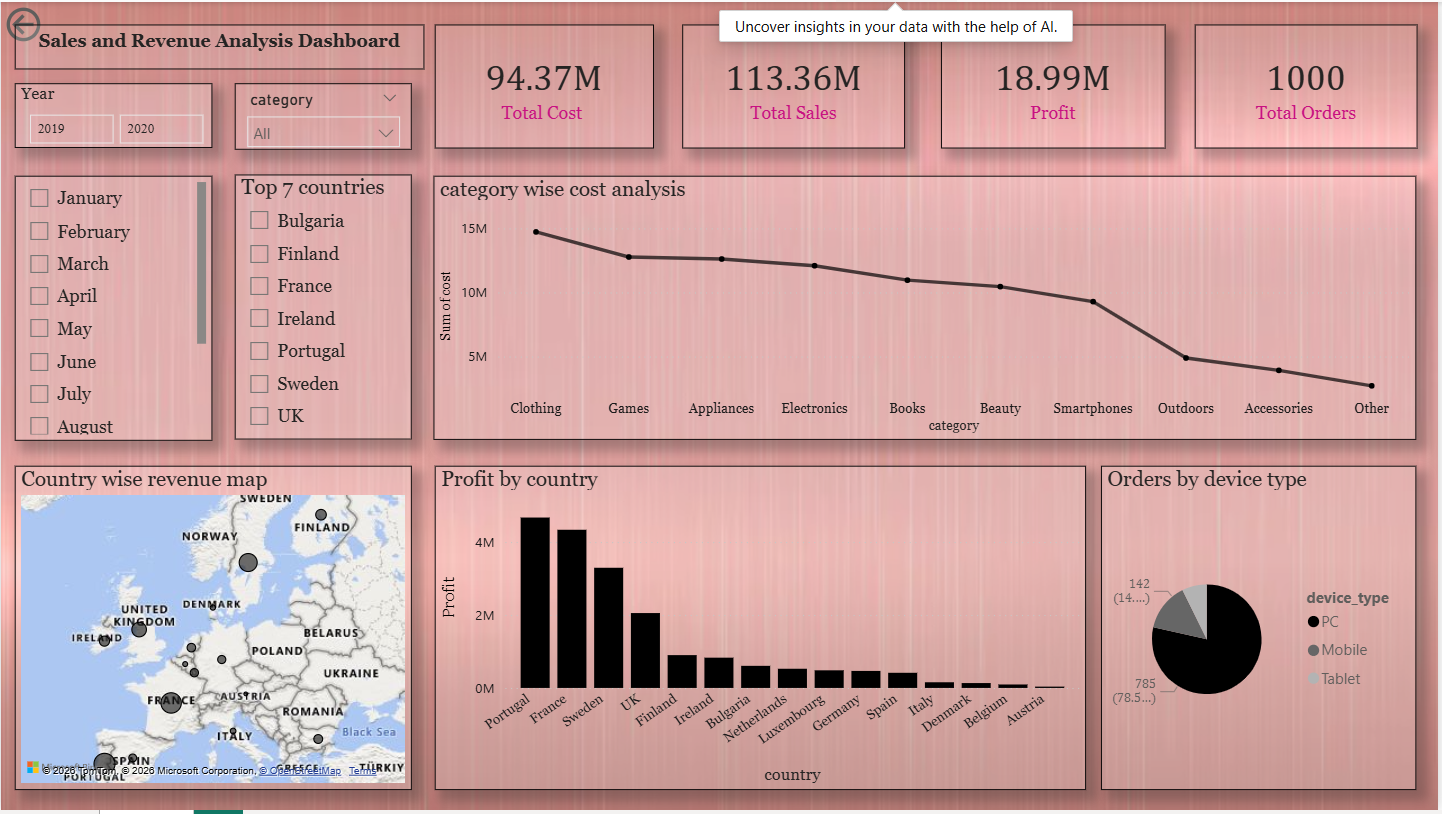

The page's visual inventory and layout, read from the dashboard file:
{"tool":"powerbi","page":{"name":"Page 1","canvas":[1280,720],"ordinal":0},"visuals":[{"type":"card","fields":{"Values":["Sum(Sales-Export_2019-2020. cost )"]},"box":[386.2,20.3,195.3,110.7],"z":0},{"type":"card","fields":{"Values":["Sum(Sales-Export_2019-2020. order_value_EUR )"]},"box":[606.4,20.3,198.7,110.7],"z":1000},{"type":"actionButton","box":[0,0,100,40],"z":2000},{"type":"card","fields":{"Values":["Sales-Export_2019-2020.Profit"]},"box":[836.7,20.3,199.9,110.7],"z":3000},{"type":"card","fields":{"Values":["Sales-Export_2019-2020.Total Orders"]},"box":[1062.5,20.3,198.7,110.7],"z":4000},{"type":"lineChart","title":"category wise cost analysis","fields":{"Category":["Sales-Export_2019-2020.category"],"Y":["Sum(Sales-Export_2019-2020. cost )"]},"box":[385.2,154.5,875,235.2],"z":5000},{"type":"columnChart","fields":{"Y":["Sales-Export_2019-2020.Profit"],"Category":["Sales-Export_2019-2020.country"]},"box":[386.2,413.3,580.4,289.1],"z":6000},{"type":"pieChart","title":" Orders by device type","fields":{"Category":["Sales-Export_2019-2020.device_type"],"Y":["Sales-Export_2019-2020.Total Orders"]},"box":[980.1,413.3,281.2,289.1],"z":7000},{"type":"slicer","fields":{"Values":["Sales-Export_2019-2020.date.Variation.Date Hierarchy.Month"]},"box":[12.5,154.5,176.1,236.4],"z":8000},{"type":"map","title":"Country wise revenue map","fields":{"Category":["Sales-Export_2019-2020.country"],"Size":["Sum(Sales-Export_2019-2020. order_value_EUR )"]},"box":[12.4,413.3,353.4,289.1],"z":9000},{"type":"slicer","title":"Year","fields":{"Values":["Sales-Export_2019-2020.date.Variation.Date Hierarchy.Year"]},"box":[12.5,72.7,176.1,58],"z":10000},{"type":"slicer","title":"Top 7 countries","fields":{"Values":["Sales-Export_2019-2020.country"]},"box":[208,153.4,158,236.4],"z":11000},{"type":"slicer","fields":{"Values":["Sales-Export_2019-2020.category"]},"box":[208,72.7,158,59.1],"z":12000},{"type":"textbox","box":[12.5,20.5,364.8,39.8],"z":13000}]}

Visuals, with their boxes in screenshot pixels (x1, y1, x2, y2), scaled from the page's 1280x720 canvas onto the 1442x814 screenshot:
card - Sum(Sales-Export_2019-2020. cost ): bbox(435, 23, 655, 148)
card - Sum(Sales-Export_2019-2020. order_value_EUR ): bbox(683, 23, 907, 148)
actionButton: bbox(0, 0, 113, 45)
card - Sales-Export_2019-2020.Profit: bbox(943, 23, 1168, 148)
card - Sales-Export_2019-2020.Total Orders: bbox(1197, 23, 1421, 148)
"category wise cost analysis" lineChart: bbox(434, 175, 1420, 441)
columnChart - Sales-Export_2019-2020.Profit x Sales-Export_2019-2020.country: bbox(435, 467, 1089, 794)
" Orders by device type" pieChart: bbox(1104, 467, 1421, 794)
slicer - Sales-Export_2019-2020.date.Variation.Date Hierarchy.Month: bbox(14, 175, 212, 442)
"Country wise revenue map" map: bbox(14, 467, 412, 794)
"Year" slicer: bbox(14, 82, 212, 148)
"Top 7 countries" slicer: bbox(234, 173, 412, 441)
slicer - Sales-Export_2019-2020.category: bbox(234, 82, 412, 149)
textbox: bbox(14, 23, 425, 68)
